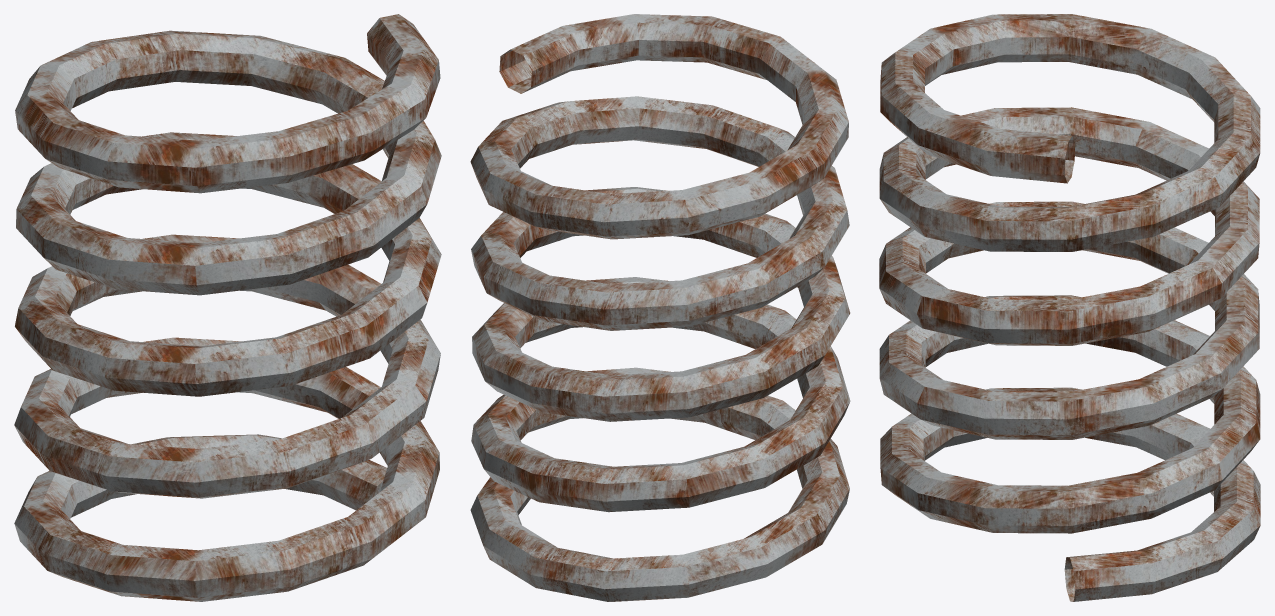
File: spring_2.glb
3 views of the same model, side by side, from view 1: azimuth 30°, elevation 25°; view 2: azimuth 150°, elevation 25°; view 3: azimuth 270°, elevation 25° (orthographic). The views are drawn at different scales.
Parts seen in each view (by area): view 1: spring_2; view 2: spring_2; view 3: spring_2.
Part boxes in pixels (x1,y1,x2,y2): spring_2: (14,14,441,601); spring_2: (470,14,850,601); spring_2: (879,14,1260,601).
Bounding box in the file's own units: 0.114 × 0.1487 × 0.1111.
Materials: 1 (1 with a texture image).
